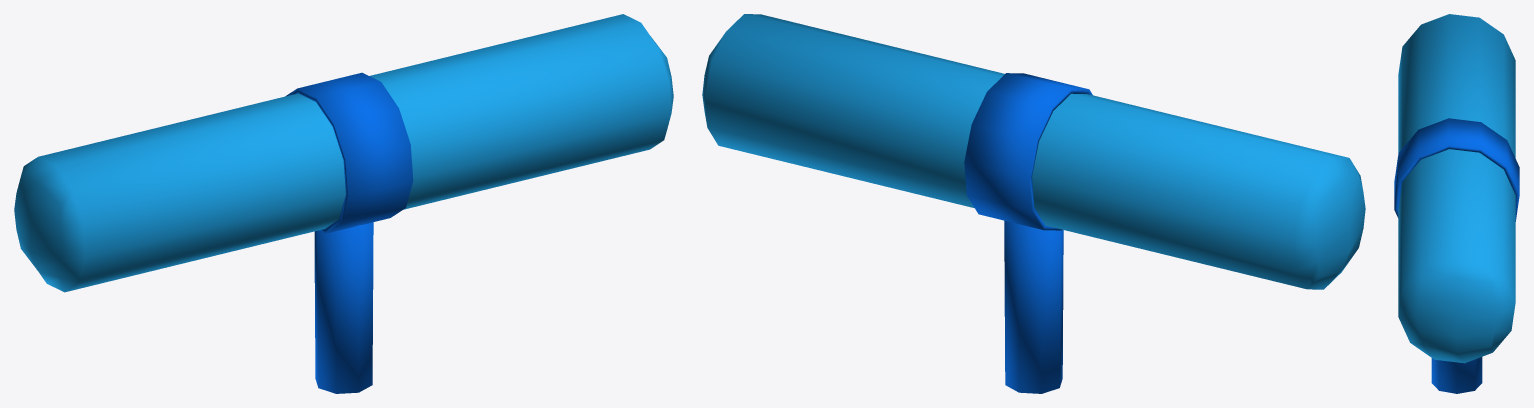
Rendered from Gimmick_01.fbx.
3 views of the same model, side by side, from view 1: azimuth 30°, elevation 25°; view 2: azimuth 150°, elevation 25°; view 3: azimuth 270°, elevation 25° (orthographic). The views are drawn at different scales.
Visible parts, largest first — view 1: Cube.005; view 2: Cube.005; view 3: Cube.005.
Part boxes in pixels (x1,y1,x2,y2): Cube.005: [14, 14, 673, 393]; Cube.005: [702, 14, 1365, 393]; Cube.005: [1394, 14, 1519, 393].
Size of the model in its own units: 2.9 by 1.3 by 0.5896.
